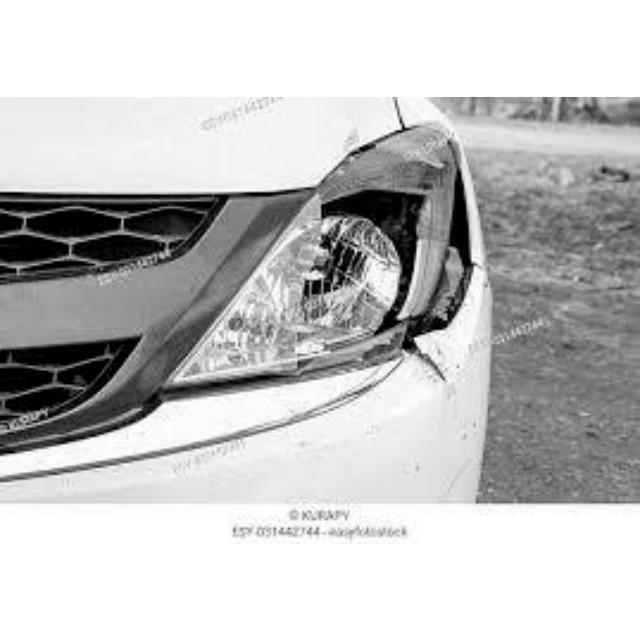Headlight-damage: (160, 121, 476, 382)
